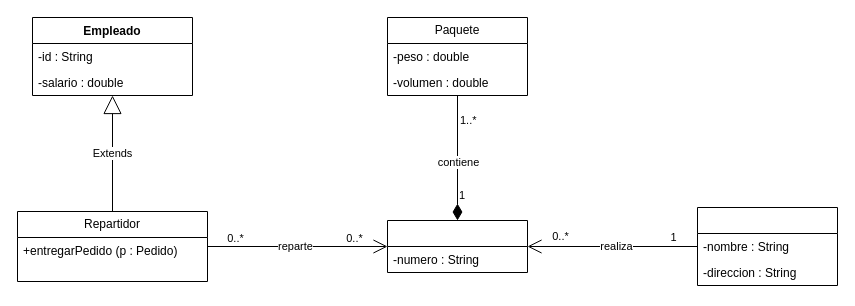
Image size: 855x306. Some labels were removed from this diagram. Each missing label, with the box of its shape:
Cliente: (696, 206, 838, 286)
Pedido: (386, 220, 528, 272)
